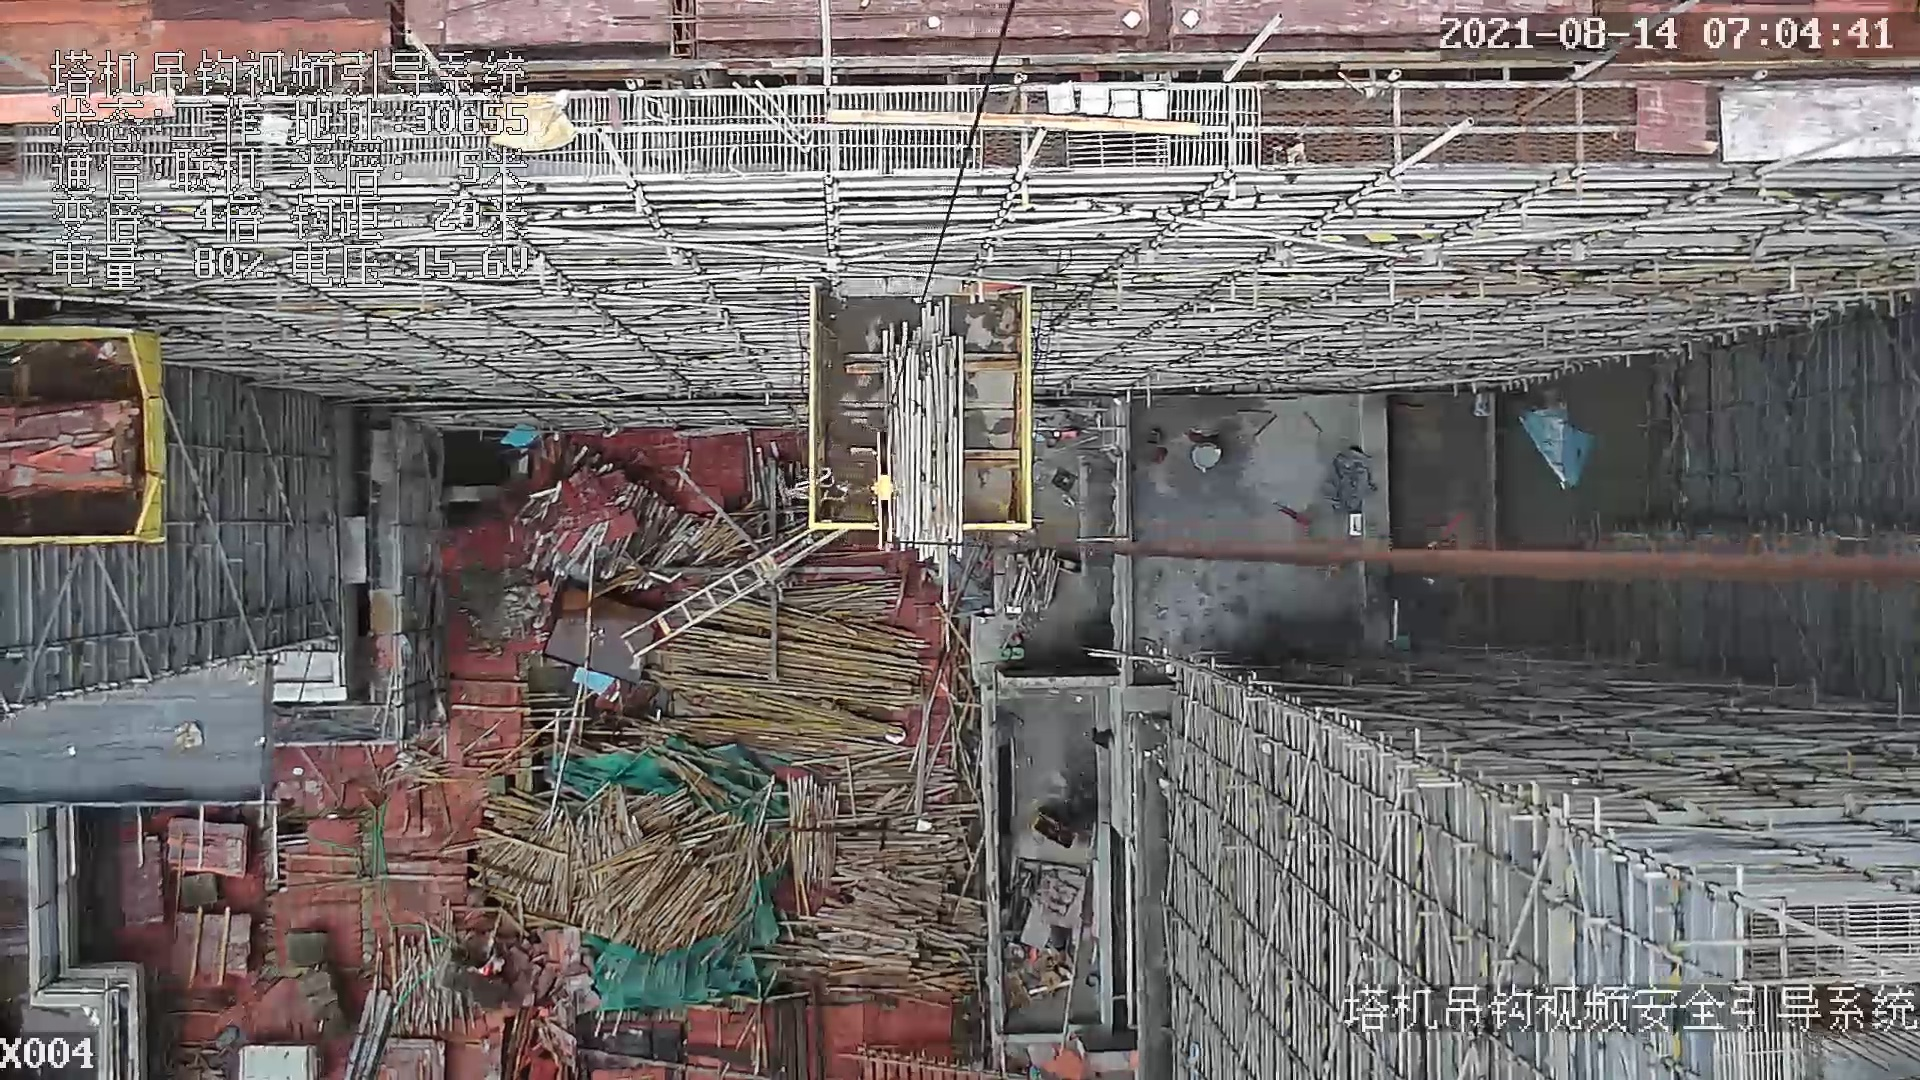hook: (865, 433, 899, 555)
